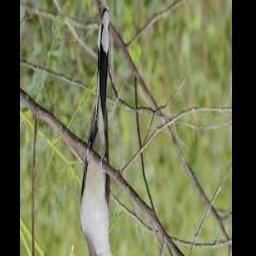Cuckoo: (80, 9, 123, 256)
